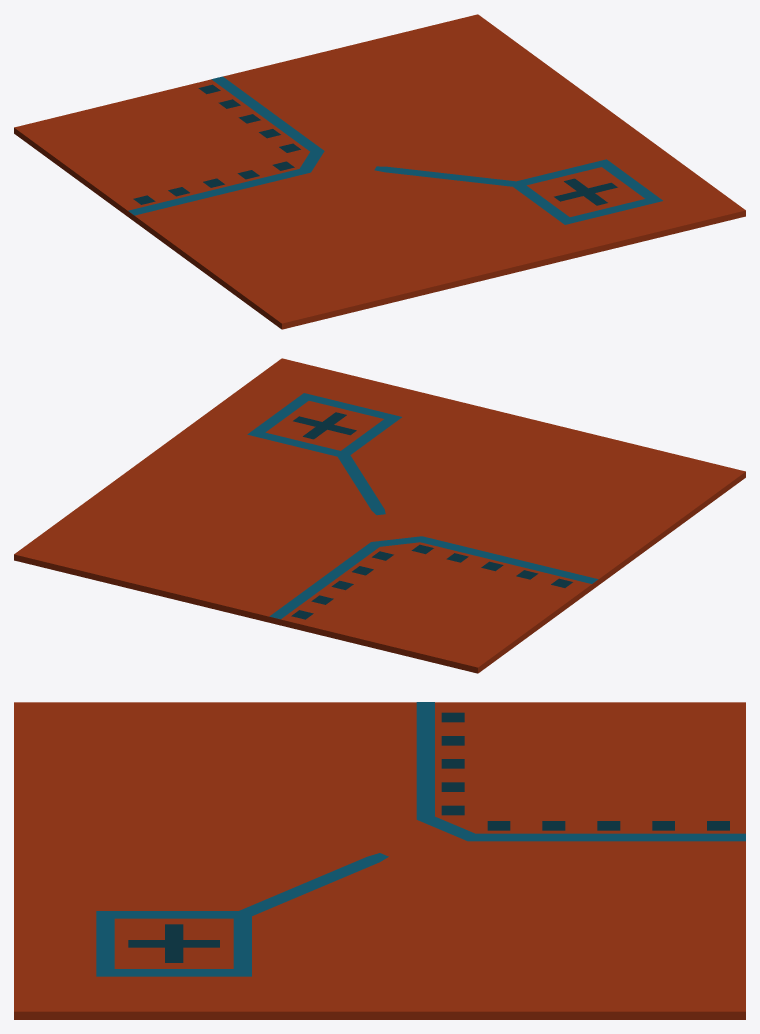
File: Tile_3-1E.fbx
3 views of the same model, one above another, from view 1: azimuth 30°, elevation 25°; view 2: azimuth 150°, elevation 25°; view 3: azimuth 270°, elevation 25° (orthographic). The views are drawn at different scales.
Visible parts, largest first — view 1: Tile_3-1E; view 2: Tile_3-1E; view 3: Tile_3-1E.
Boxes of the visible parts, x1=… form: Tile_3-1E: x1=14, y1=14, x2=745, y2=329; Tile_3-1E: x1=14, y1=358, x2=745, y2=673; Tile_3-1E: x1=14, y1=702, x2=745, y2=1019.
Size of the model in its own units: 4 by 4 by 0.051.
